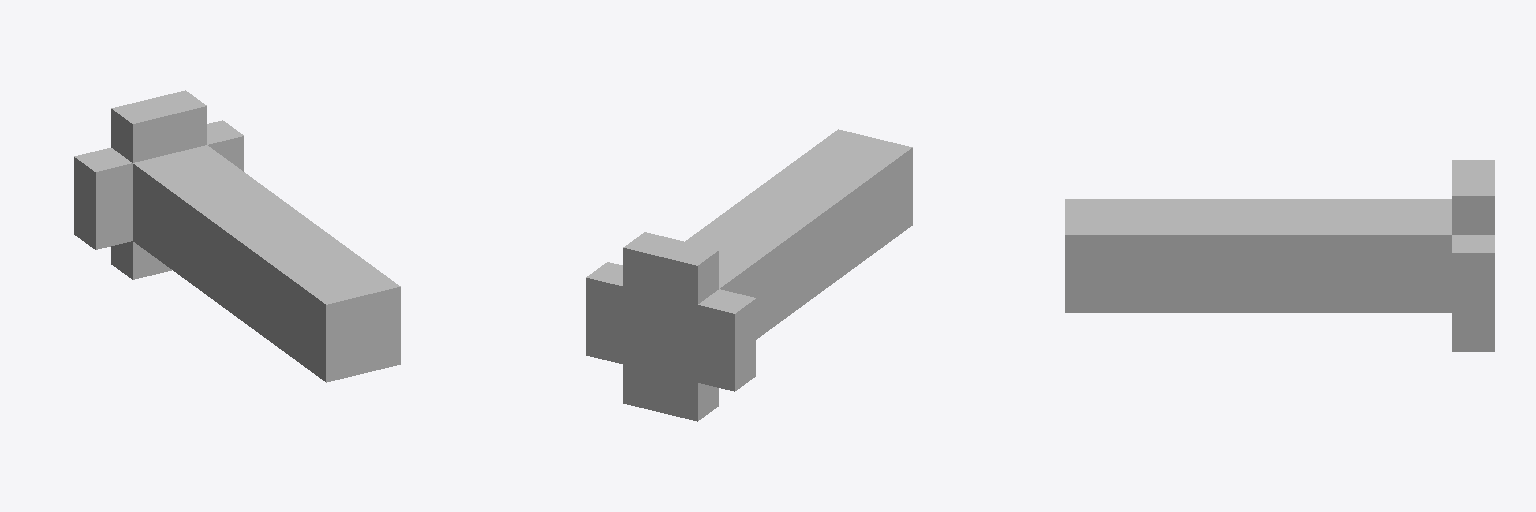
Rendered from pipe.obj.
3 views of the same model, side by side, from view 1: azimuth 30°, elevation 25°; view 2: azimuth 150°, elevation 25°; view 3: azimuth 270°, elevation 25° (orthographic).
Bounding box in the file's own units: 4 × 4 × 10.